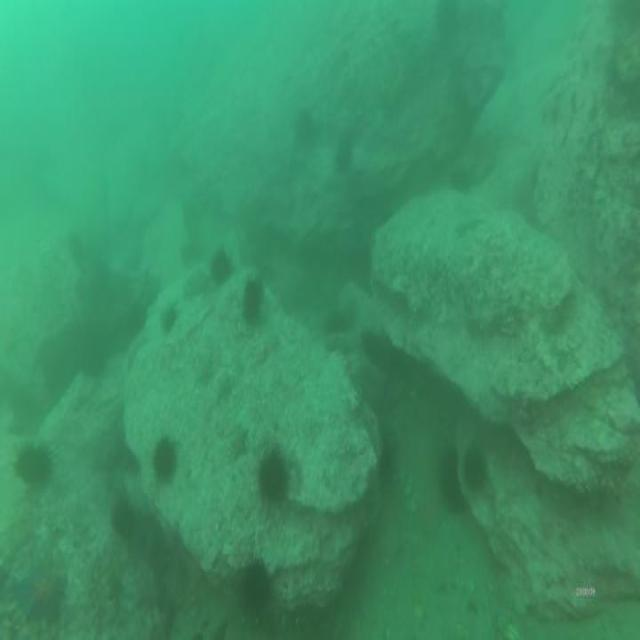echinus: (16, 441, 52, 483), (258, 449, 284, 501), (437, 455, 462, 509), (242, 561, 266, 608), (151, 438, 176, 482), (464, 444, 485, 493), (332, 128, 353, 169), (295, 107, 315, 144), (208, 248, 229, 281), (111, 499, 133, 528), (242, 280, 258, 318), (159, 307, 177, 330)
starfish: (12, 561, 61, 618), (230, 425, 248, 458), (193, 352, 214, 380)
